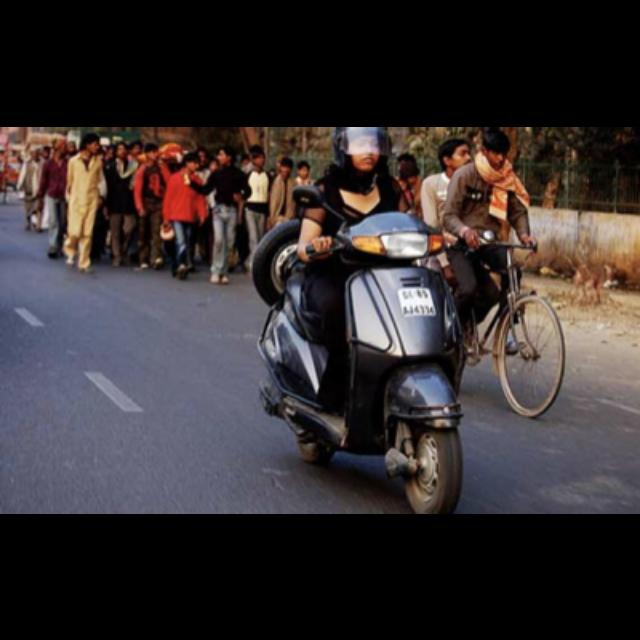With Helmet: (332, 126, 401, 174)
